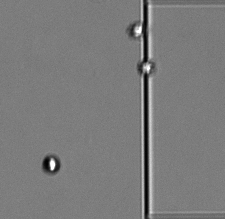Living Cell: (42, 154, 61, 175), (128, 21, 145, 38), (137, 59, 155, 75)
